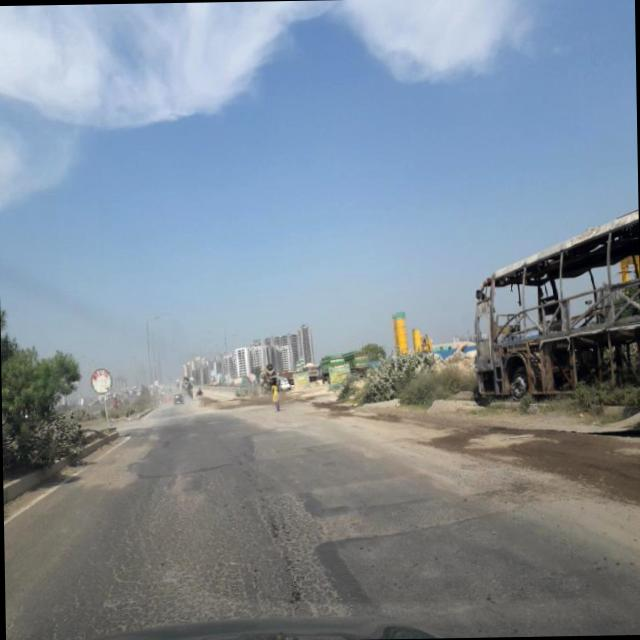crack: (60, 481, 360, 633)
